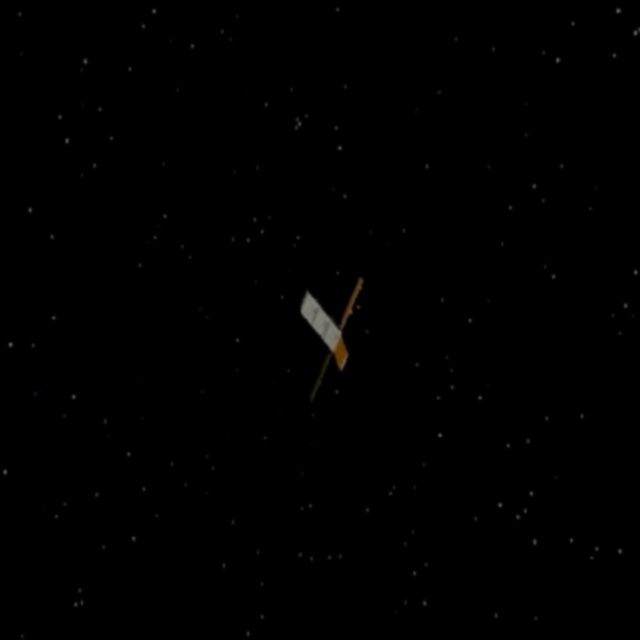satellite: (304, 263, 373, 411)
